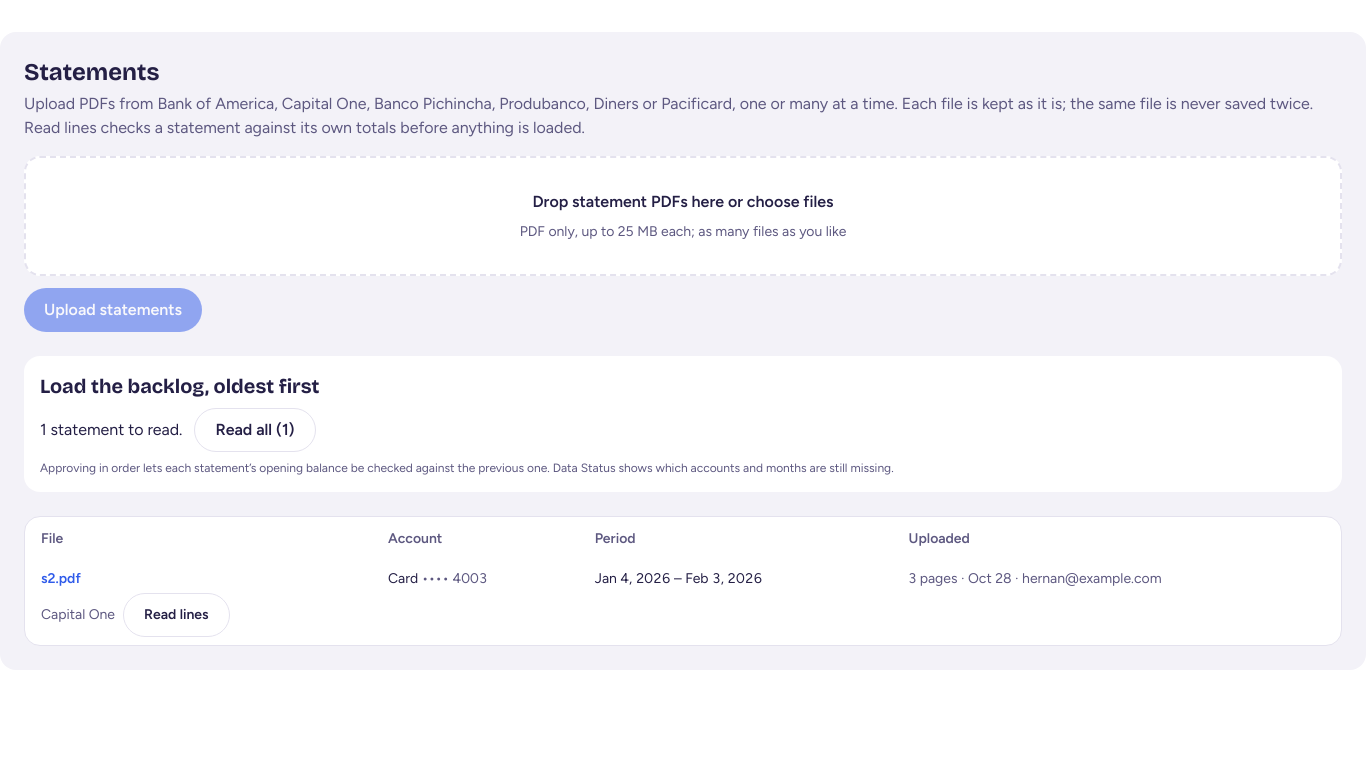
Scenario: backlog › lists what failed and hides with nothing to do
Click the button "Read all (1)" at (255, 430), box left=194, top=408, right=316, bottom=452
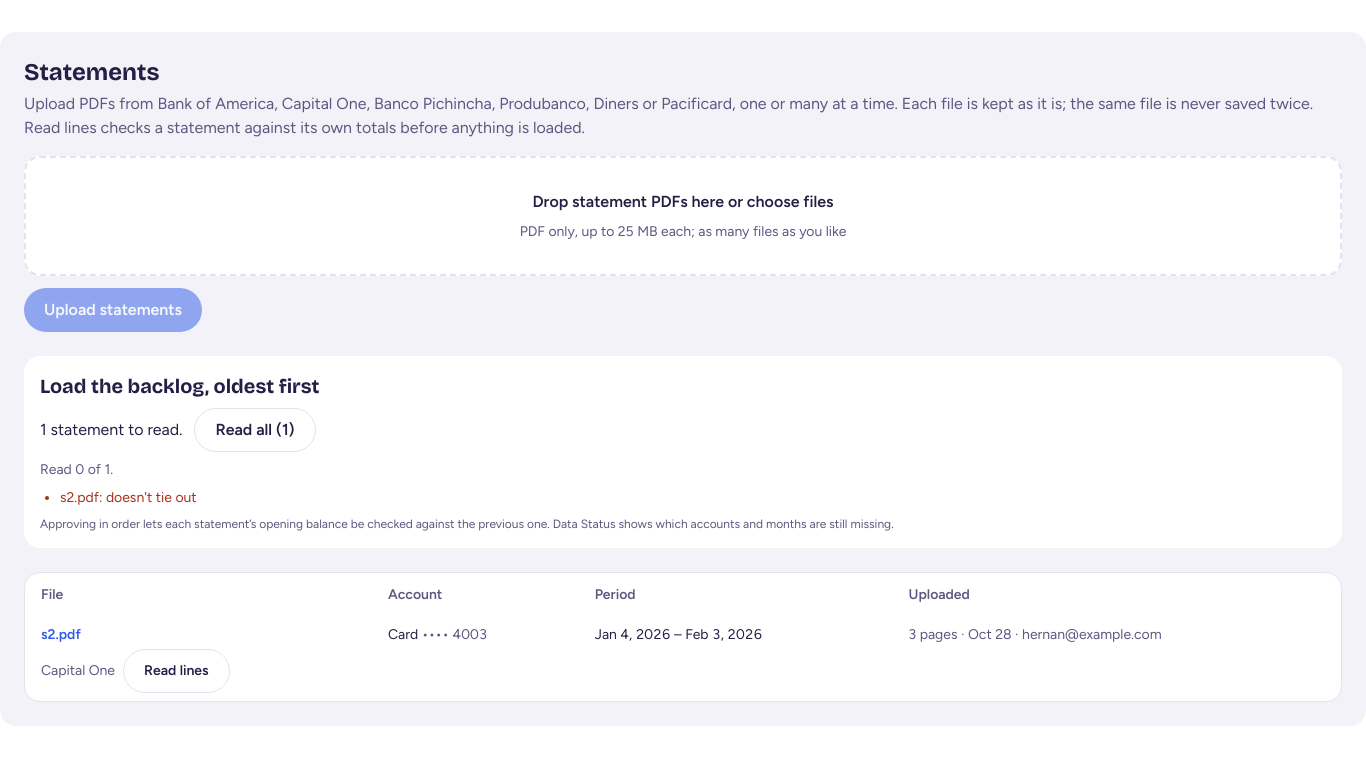
Check: the text "Read 0 of 1." is shown, box left=40, top=461, right=113, bottom=478
Check: the list named "Problems" reads "s2.pdf: doesn't tie out", box left=60, top=489, right=197, bottom=506
